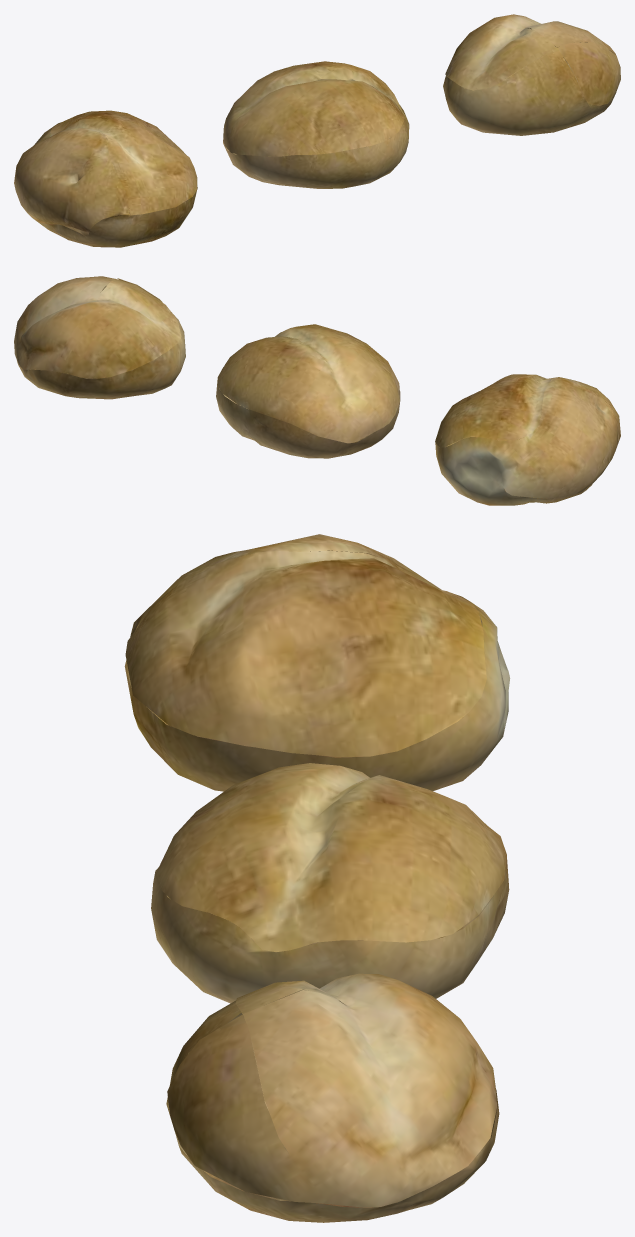
File: ph_hamburger_buns.glb
3 renders of one model, top to bottom at view 1: azimuth 30°, elevation 25°; view 2: azimuth 150°, elevation 25°; view 3: azimuth 270°, elevation 25°, orthographic. The views are drawn at different scales.
Parts seen in each view (by area): view 1: hamburger_buns_01; view 2: hamburger_buns_01; view 3: hamburger_buns_01.
Part boxes in pixels (x1,y1,x2,y2): hamburger_buns_01: (14,14,620,247); hamburger_buns_01: (14,276,620,505); hamburger_buns_01: (124,534,510,1222).
Size of the model in its own units: 0.397 by 0.0639 by 0.1138.
1 material, 1 textured.
